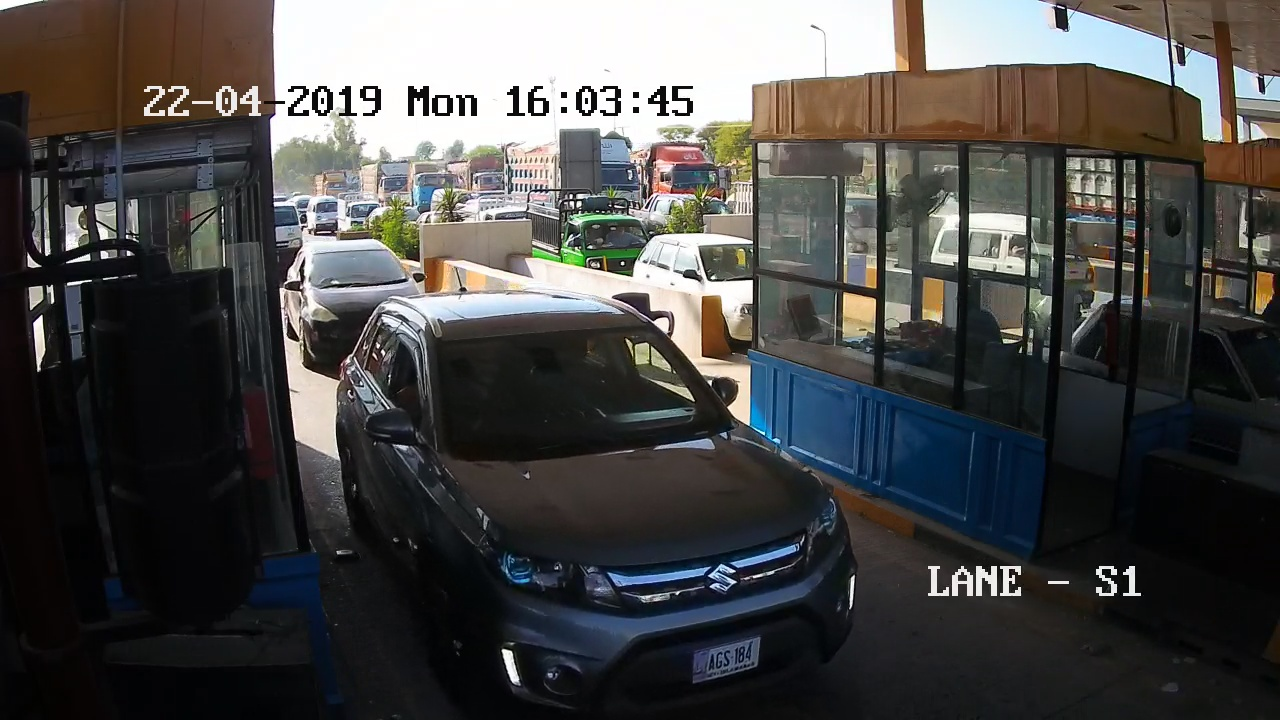Number Plate (Car): (695, 641, 763, 676)
